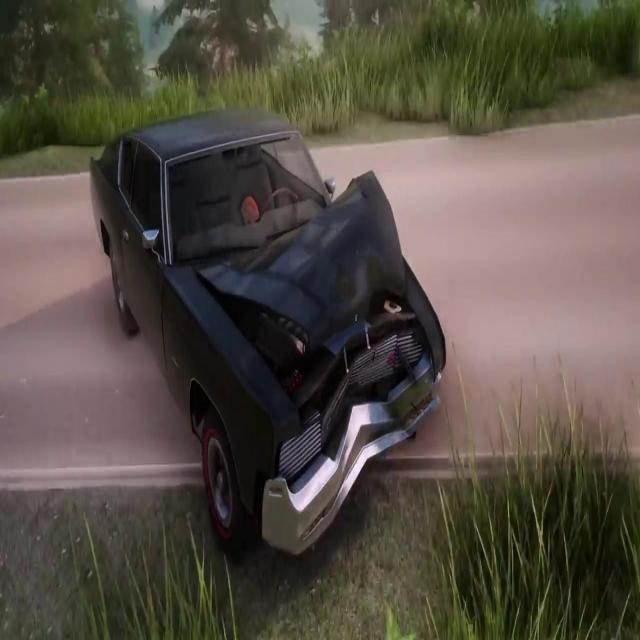accident: (84, 105, 448, 573)
